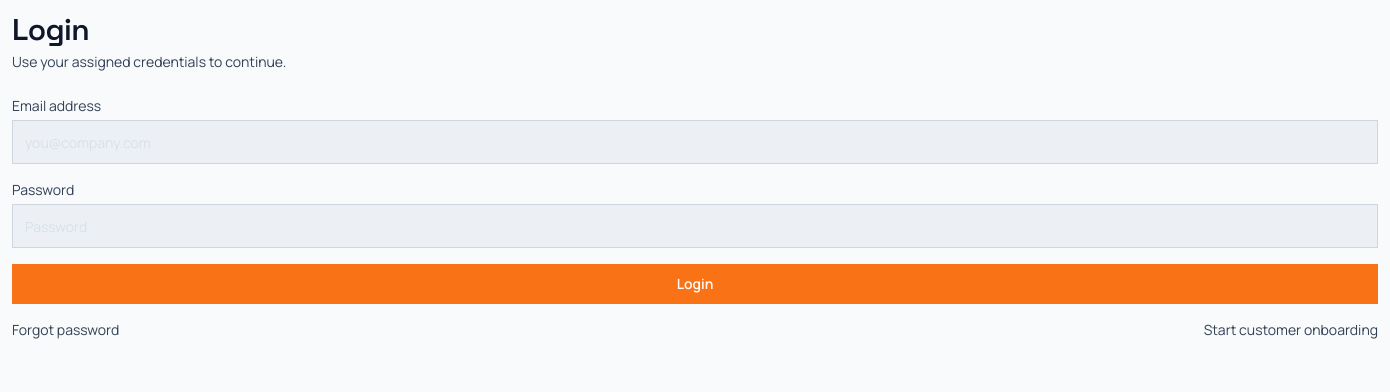
LoginPage › shows required field validation when inputs are empty
Step 1. Click the button "Login" → (695, 284), box [12,264,1378,304]
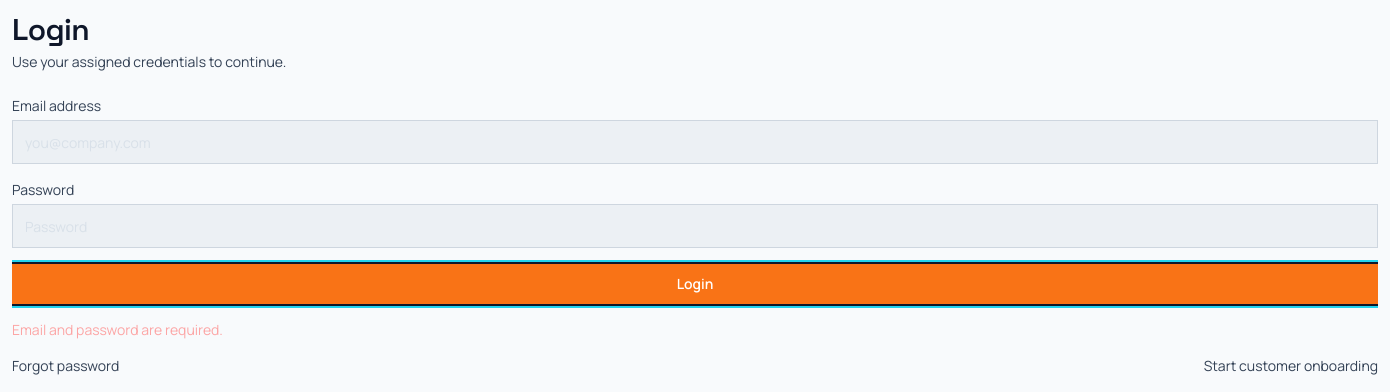
expect the text "Email and password are required." is shown: met, box [12,320,223,339]
